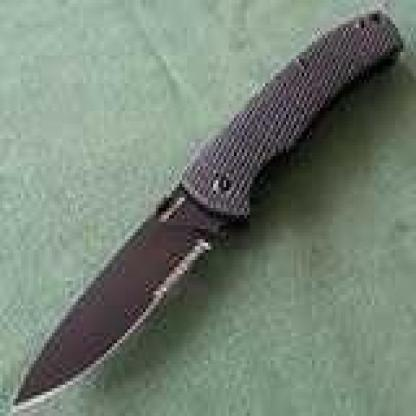Knife: (9, 11, 406, 416)
